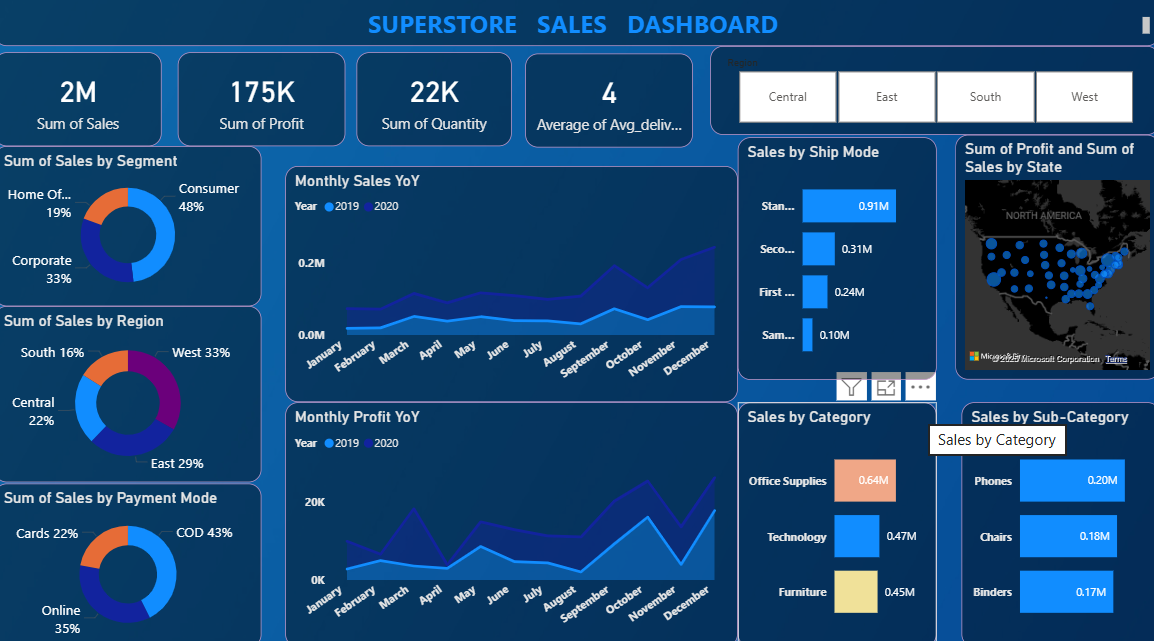

This screenshot's page, from the dashboard's own definition file:
{"tool":"powerbi","page":{"name":"Page 1","canvas":[1280,720],"ordinal":0},"visuals":[{"type":"clusteredBarChart","title":"Sales by Category","fields":{"Category":["SuperStore_Sales_Dataset.Category"],"Y":["Sum(SuperStore_Sales_Dataset.Sales)"]},"box":[816.5,451.5,218.2,269],"z":0},{"type":"clusteredBarChart","title":"Sales by Sub-Category","fields":{"Category":["SuperStore_Sales_Dataset.Sub-Category"],"Y":["Sum(SuperStore_Sales_Dataset.Sales)"]},"box":[1062.1,451.5,218.2,269],"z":1000},{"type":"clusteredBarChart","title":"Sales by Ship Mode","fields":{"Y":["Sum(SuperStore_Sales_Dataset.Sales)"],"Category":["SuperStore_Sales_Dataset.Ship Mode"]},"box":[816.5,160.5,218.2,266.2],"z":2000},{"type":"stackedAreaChart","title":"Monthly Sales YoY","fields":{"Y":["Sum(SuperStore_Sales_Dataset.Sales)"],"Category":["SuperStore_Sales_Dataset.Order Date.Variation.Date Hierarchy.Month","SuperStore_Sales_Dataset.Order Date.Variation.Date Hierarchy.Day"],"Series":["SuperStore_Sales_Dataset.Order Date.Variation.Date Hierarchy.Year"]},"box":[319.7,192.1,496.7,259.3],"z":3000},{"type":"stackedAreaChart","title":"Monthly Profit YoY","fields":{"Category":["SuperStore_Sales_Dataset.Order Date.Variation.Date Hierarchy.Month","SuperStore_Sales_Dataset.Order Date.Variation.Date Hierarchy.Day"],"Series":["SuperStore_Sales_Dataset.Order Date.Variation.Date Hierarchy.Year"],"Y":["Sum(SuperStore_Sales_Dataset.Profit)"]},"box":[319.7,451.5,496.7,269],"z":3001},{"type":"map","fields":{"Size":["Sum(SuperStore_Sales_Dataset.Profit)"],"Category":["SuperStore_Sales_Dataset.State"]},"box":[1055.2,157.8,225,269],"z":3002},{"type":"donutChart","fields":{"Category":["SuperStore_Sales_Dataset.Segment"],"Y":["Sum(SuperStore_Sales_Dataset.Sales)"]},"box":[0,170.2,293.7,175.6],"z":3003},{"type":"donutChart","fields":{"Y":["Sum(SuperStore_Sales_Dataset.Sales)"],"Category":["SuperStore_Sales_Dataset.Region"]},"box":[0,345.8,293.7,193.5],"z":3004},{"type":"donutChart","fields":{"Y":["Sum(SuperStore_Sales_Dataset.Sales)"],"Category":["SuperStore_Sales_Dataset.Payment Mode"]},"box":[0,540.7,293.7,179.8],"z":3005},{"type":"slicer","fields":{"Values":["SuperStore_Sales_Dataset.Region"]},"box":[786.3,60.4,494,97.4],"z":3006},{"type":"textbox","box":[0,6.9,1280.3,53.5],"z":3007},{"type":"card","fields":{"Values":["Sum(SuperStore_Sales_Dataset.Sales)"]},"box":[0,67.2,183.9,102.9],"z":3008},{"type":"card","fields":{"Values":["Sum(SuperStore_Sales_Dataset.Profit)"]},"box":[201.7,67.2,183.9,102.9],"z":3009},{"type":"card","fields":{"Values":["Sum(SuperStore_Sales_Dataset.Quantity)"]},"box":[397.9,67.2,170.2,102.9],"z":3010},{"type":"card","fields":{"Values":["Avg(SuperStore_Sales_Dataset.Avg_delivery)"]},"box":[583.2,68.6,183.9,102.9],"z":3011}]}

Visuals, with their boxes in screenshot pixels (x1, y1, x2, y2), scaled from the page's 1280x720 canvas onto the 1154x641 screenshot:
"Sales by Category" clusteredBarChart: left=736, top=402, right=933, bottom=640
"Sales by Sub-Category" clusteredBarChart: left=958, top=402, right=1153, bottom=640
"Sales by Ship Mode" clusteredBarChart: left=736, top=143, right=933, bottom=380
"Monthly Sales YoY" stackedAreaChart: left=288, top=171, right=736, bottom=402
"Monthly Profit YoY" stackedAreaChart: left=288, top=402, right=736, bottom=640
map - Sum(SuperStore_Sales_Dataset.Profit) x SuperStore_Sales_Dataset.State: left=951, top=140, right=1153, bottom=380
donutChart - SuperStore_Sales_Dataset.Segment x Sum(SuperStore_Sales_Dataset.Sales): left=0, top=152, right=265, bottom=308
donutChart - Sum(SuperStore_Sales_Dataset.Sales) x SuperStore_Sales_Dataset.Region: left=0, top=308, right=265, bottom=480
donutChart - Sum(SuperStore_Sales_Dataset.Sales) x SuperStore_Sales_Dataset.Payment Mode: left=0, top=481, right=265, bottom=640
slicer - SuperStore_Sales_Dataset.Region: left=709, top=54, right=1153, bottom=140
textbox: left=0, top=6, right=1153, bottom=54
card - Sum(SuperStore_Sales_Dataset.Sales): left=0, top=60, right=166, bottom=151
card - Sum(SuperStore_Sales_Dataset.Profit): left=182, top=60, right=348, bottom=151
card - Sum(SuperStore_Sales_Dataset.Quantity): left=359, top=60, right=512, bottom=151
card - Avg(SuperStore_Sales_Dataset.Avg_delivery): left=526, top=61, right=692, bottom=153
